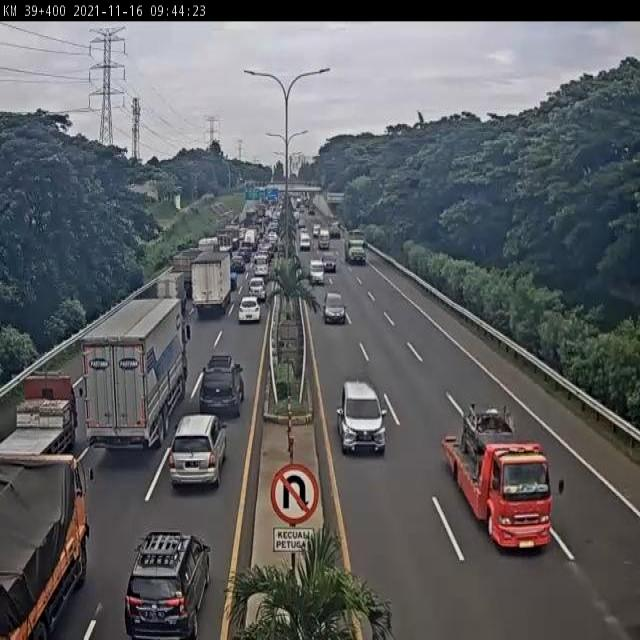Car: (124, 530, 211, 640), (168, 413, 227, 489), (338, 378, 388, 458), (198, 354, 245, 417), (323, 291, 348, 326), (237, 296, 262, 324), (248, 278, 266, 302), (309, 259, 325, 284), (321, 253, 337, 273), (254, 262, 269, 282), (230, 256, 246, 273), (318, 229, 330, 250), (299, 232, 311, 250), (330, 223, 340, 238), (312, 224, 320, 237)
Truck: (438, 406, 554, 560), (1, 447, 92, 640), (84, 298, 184, 450), (0, 375, 79, 462), (192, 251, 232, 313), (343, 231, 368, 264)
